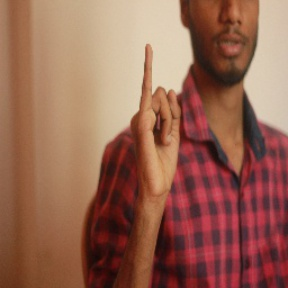I: (137, 43, 182, 193)
